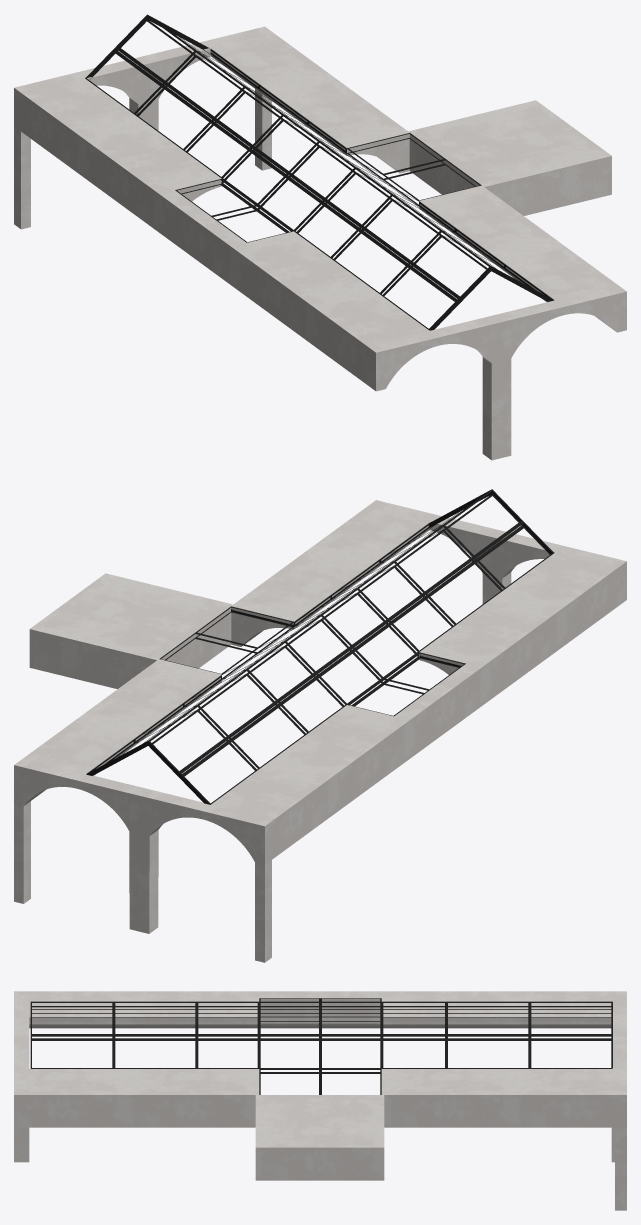
File: Ceiling.glb
3 renders of one model, top to bottom at view 1: azimuth 30°, elevation 25°; view 2: azimuth 150°, elevation 25°; view 3: azimuth 270°, elevation 25°, orthographic. The views are drawn at different scales.
Visible parts, largest first — view 1: Cube.029; view 2: Cube.029; view 3: Cube.029.
Boxes of the visible parts, <box> form: Cube.029: <box>14,14,626,460</box>; Cube.029: <box>14,489,626,962</box>; Cube.029: <box>14,991,626,1210</box>.
Size of the model in its own units: 24.15 by 11.3 by 40.
2 materials, 1 textured.
